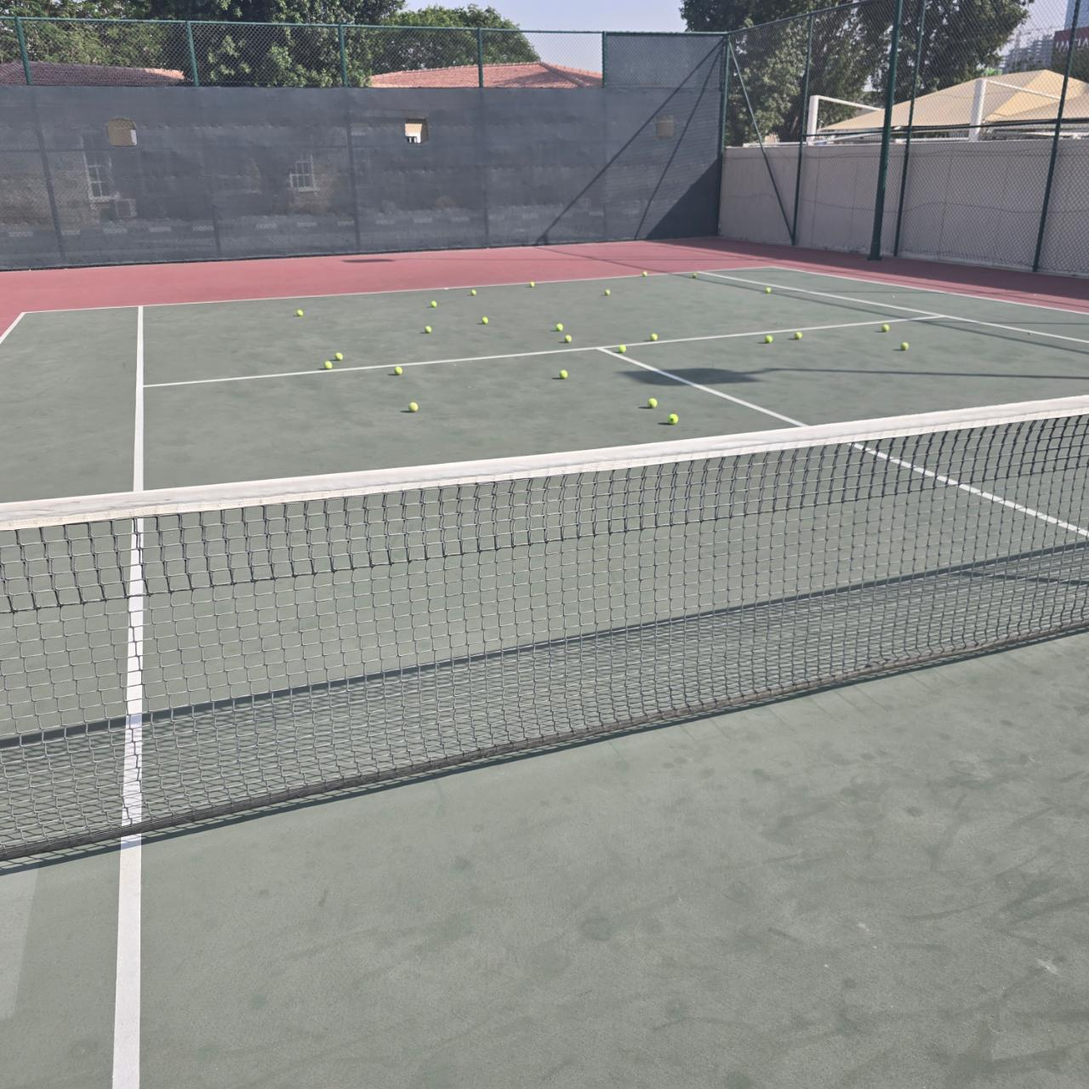tennis-ball: (667, 412, 679, 424), (407, 400, 419, 412), (647, 397, 658, 409), (392, 365, 402, 376), (899, 341, 909, 351), (559, 369, 568, 379), (764, 334, 773, 344), (335, 352, 344, 361), (564, 334, 573, 343), (323, 361, 333, 369), (481, 316, 489, 325), (555, 323, 563, 332), (618, 344, 626, 353), (650, 333, 658, 342), (794, 331, 802, 340), (881, 324, 890, 332), (425, 325, 432, 334), (296, 309, 303, 316), (604, 289, 611, 296), (431, 301, 437, 308), (471, 289, 477, 296), (765, 287, 772, 293), (529, 281, 535, 287), (692, 272, 697, 278), (642, 271, 647, 277)
